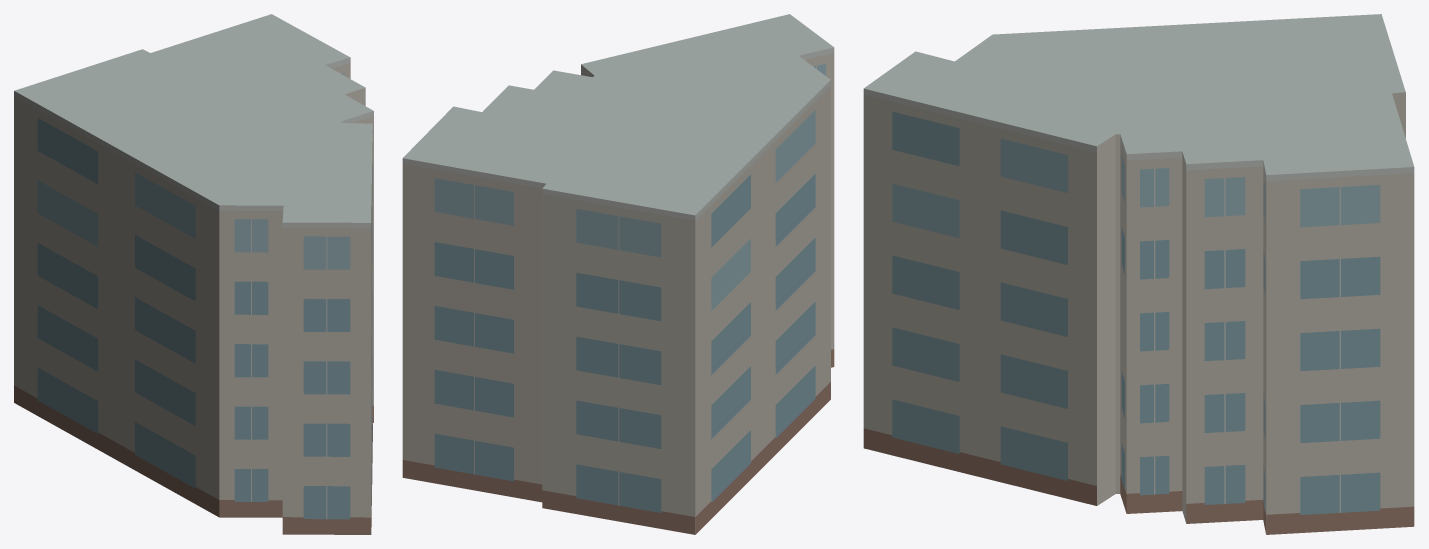
Rendered from survey-upis-32526418.glb.
The picture shows the model from 3 angles, left to right: view 1: azimuth 30°, elevation 25°; view 2: azimuth 150°, elevation 25°; view 3: azimuth 270°, elevation 25°; orthographic projection. The views are drawn at different scales.
Visible parts, largest first — view 1: survey-upis-32526418.tmp; view 2: survey-upis-32526418.tmp; view 3: survey-upis-32526418.tmp.
Boxes of the visible parts, <box> form: survey-upis-32526418.tmp: <box>14,14,373,534</box>; survey-upis-32526418.tmp: <box>402,14,834,534</box>; survey-upis-32526418.tmp: <box>863,14,1414,534</box>.
Bounding box in the file's own units: 13.65 × 14.2 × 19.72.
